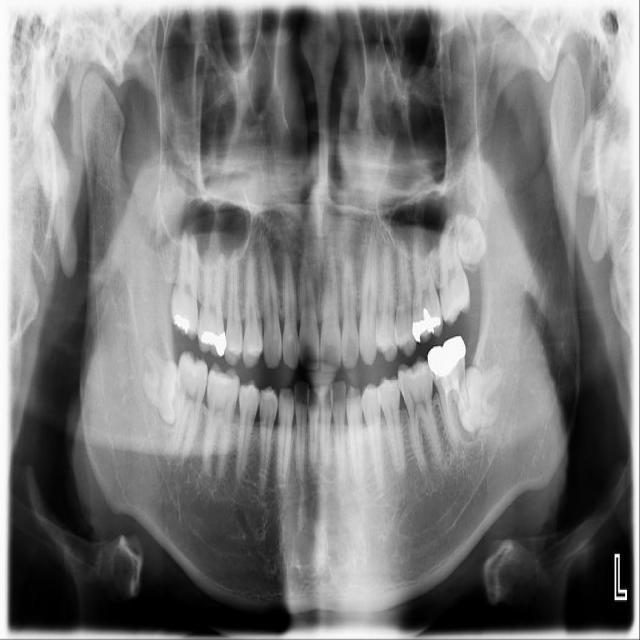Crown: (427, 328, 466, 380)
Filling: (410, 308, 441, 343), (198, 327, 228, 355), (172, 313, 192, 334)
Periapical lesion: (323, 228, 340, 276), (458, 420, 480, 442)
Root Canal Treatment: (445, 391, 455, 440), (456, 386, 466, 415)
impacted tooth: (458, 358, 506, 430), (140, 346, 179, 422), (452, 215, 490, 268)
